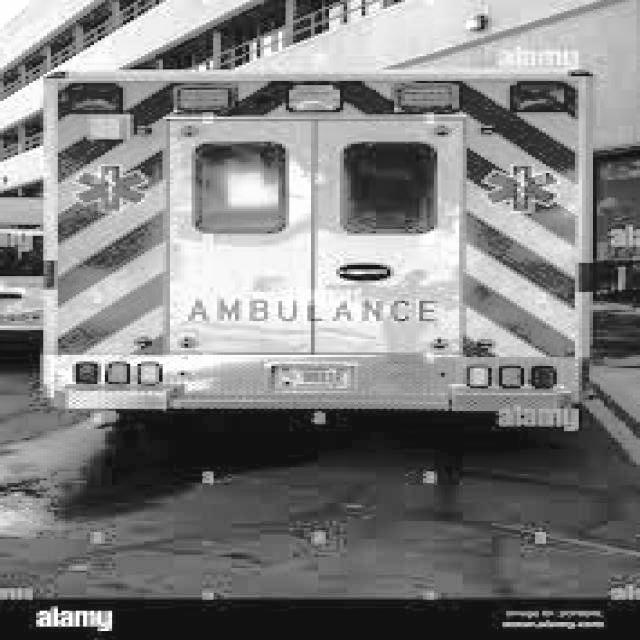LCV: (49, 73, 585, 405)
